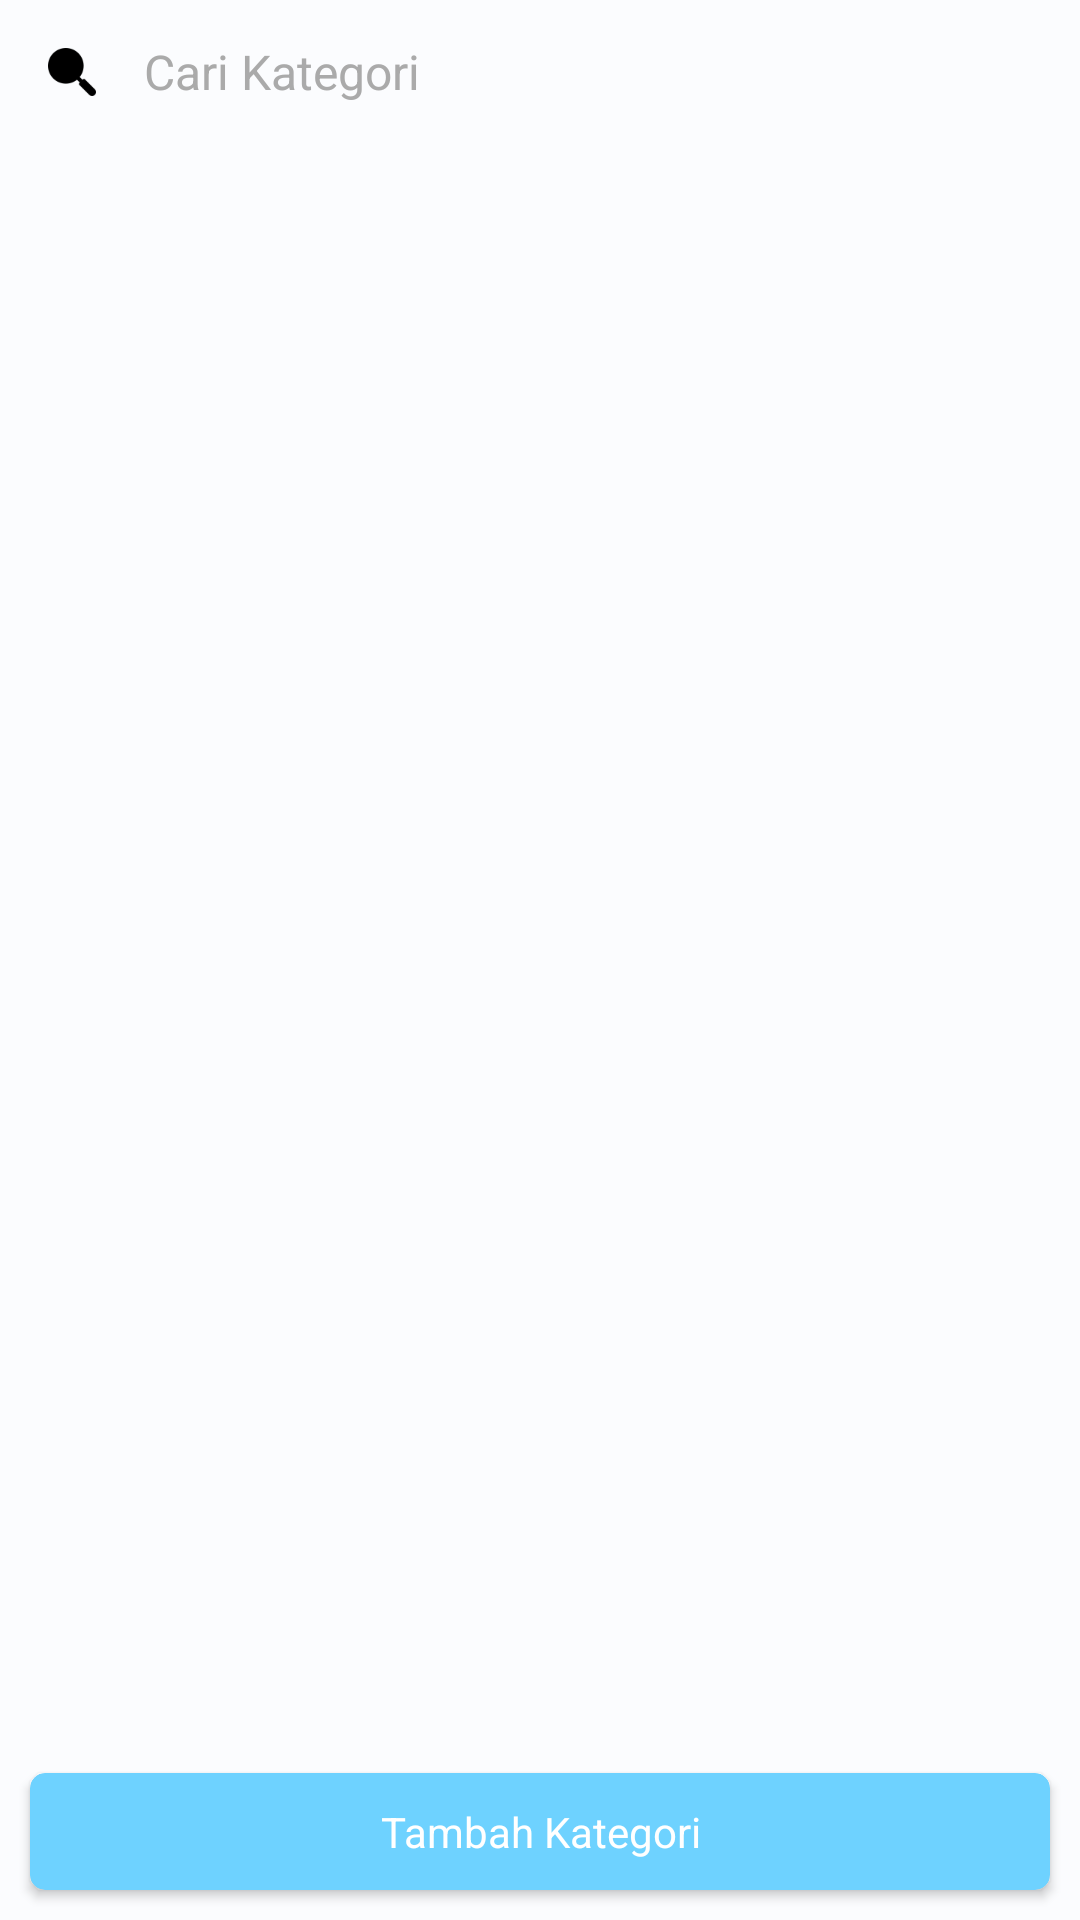

Locate icon controls on the screen. Image size 1080px x 1920px, boxes as (x1, y1, x2, y2).
search: (48, 48, 96, 96)
